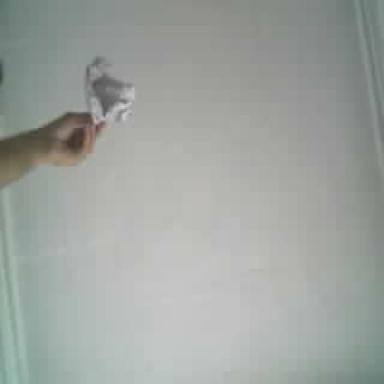paper: (85, 58, 131, 123)
